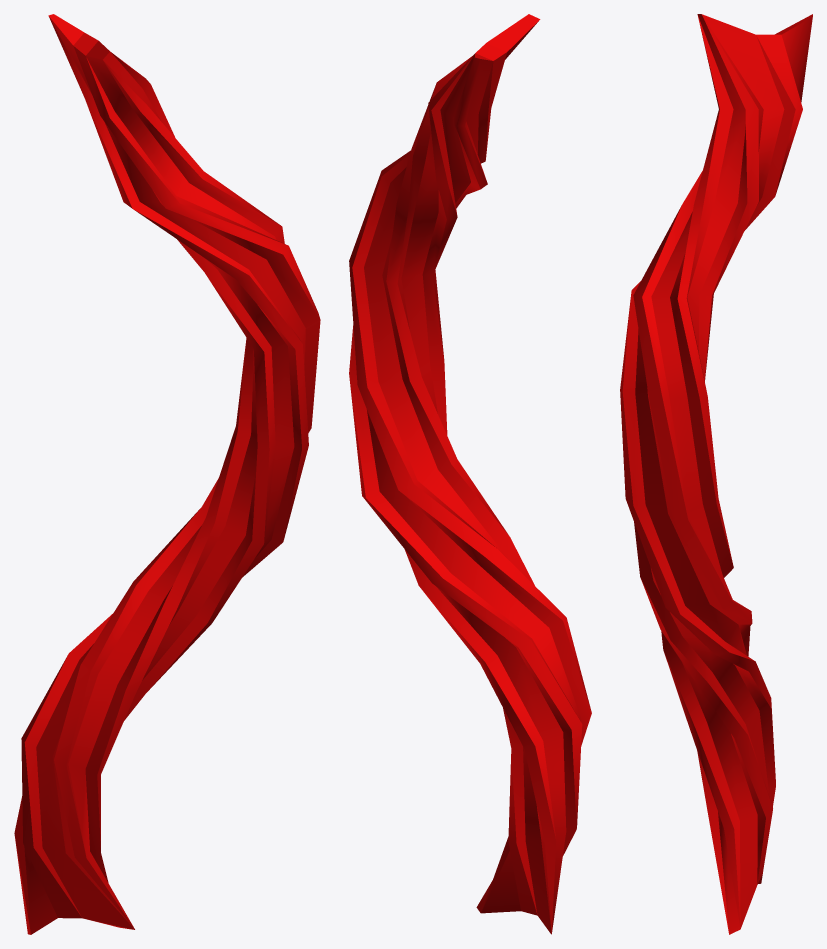
Rendered from licorice twisty.fbx.
3 renders of one model, left to right at view 1: azimuth 30°, elevation 25°; view 2: azimuth 150°, elevation 25°; view 3: azimuth 270°, elevation 25°, orthographic.
Parts seen in each view (by area): view 1: licorice9; view 2: licorice9; view 3: licorice9.
Boxes of the visible parts, left/top/right/bottom form: licorice9: left=14, top=14, right=320, bottom=934; licorice9: left=349, top=14, right=591, bottom=934; licorice9: left=620, top=14, right=812, bottom=934.
Size of the model in its own units: 1.31 by 4.34 by 0.8406.
